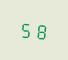eight: (33, 19, 46, 41)
five: (19, 18, 32, 39)
